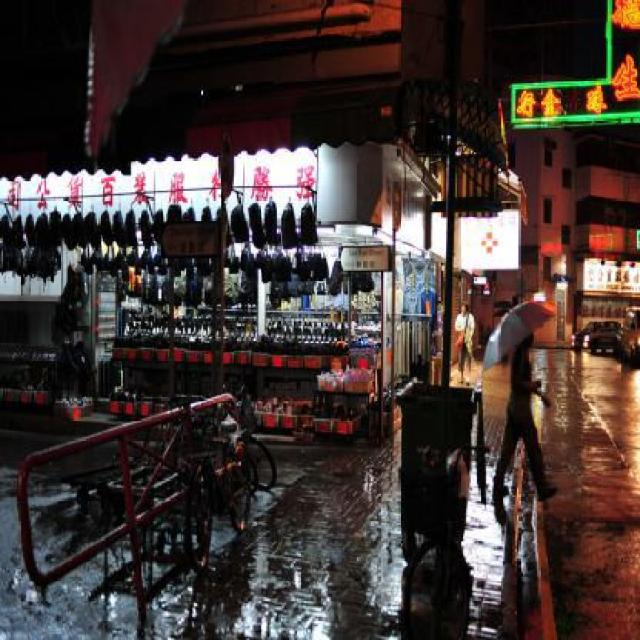Person: (493, 323, 556, 499), (454, 300, 474, 385)
